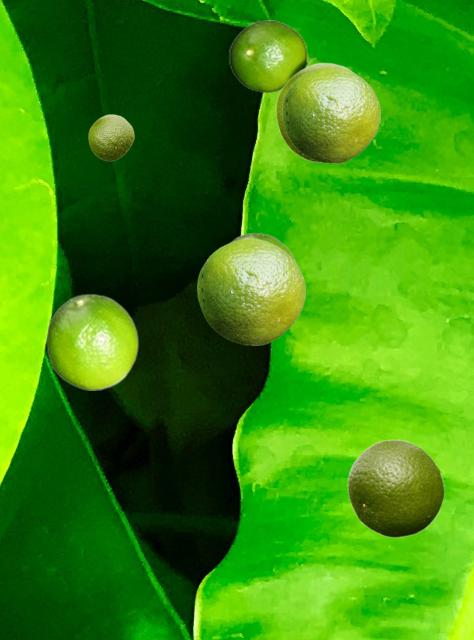calamansi: (197, 238, 304, 344), (347, 438, 444, 537), (282, 66, 379, 162), (46, 293, 138, 389), (275, 62, 353, 162), (228, 20, 316, 92), (226, 232, 298, 263), (88, 114, 133, 160)
